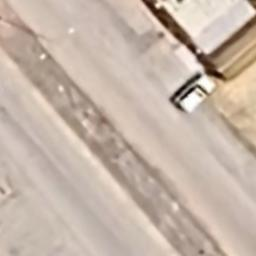SUV: (174, 73, 214, 114)
